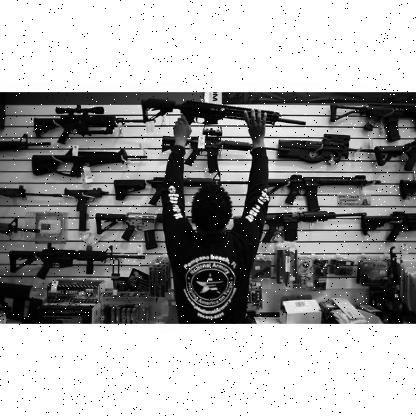gun: (136, 94, 308, 134), (6, 243, 142, 279), (28, 104, 130, 142), (28, 145, 146, 175), (274, 130, 358, 165)
